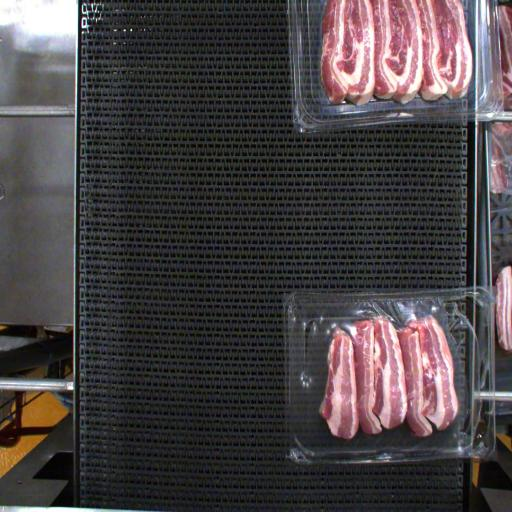unsealed: (287, 291, 495, 460)
